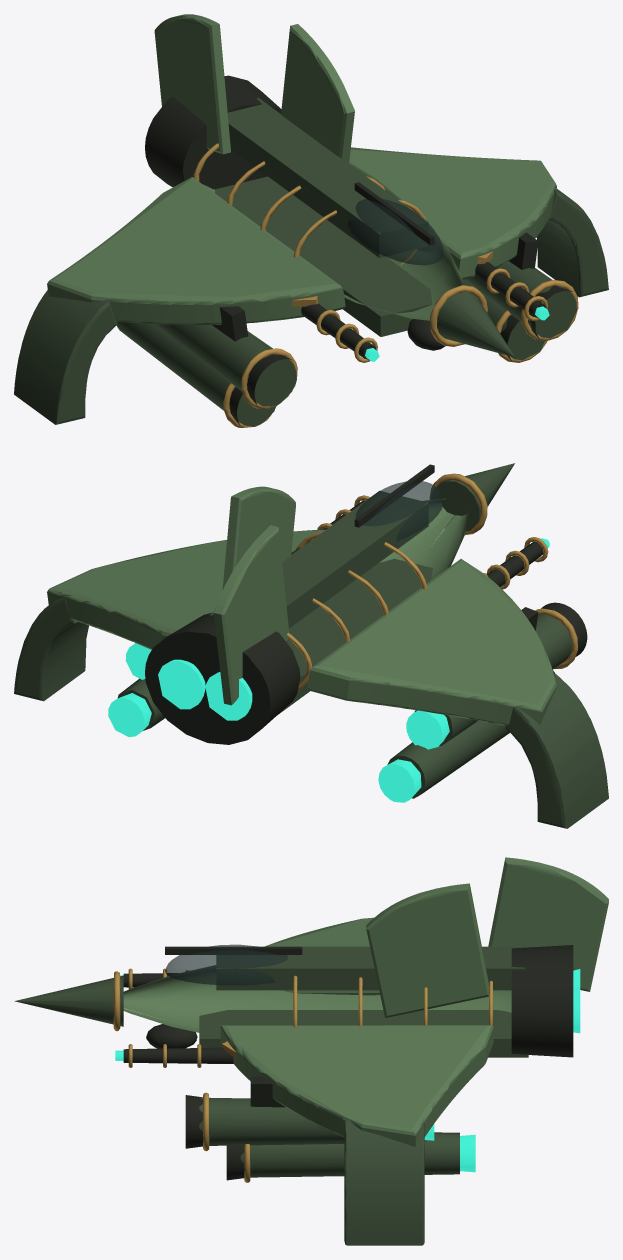
File: warbird-heavy-lod1.glb
The picture shows the model from 3 angles, top to bottom: view 1: azimuth 30°, elevation 25°; view 2: azimuth 150°, elevation 25°; view 3: azimuth 270°, elevation 25°; orthographic projection. The views are drawn at different scales.
Visible parts, largest first — view 1: object 1, nacelle_shell_1, cannon_barrel (×2), nacelle_shell_2, nacelle_ring_1, nacelle_pylon_1; view 2: object 1, object 2, main_thruster_2, plasma_exhaust_2, main_thruster_1, cannon_barrel, nacelle_shell_2, plasma_exhaust_1; view 3: object 1, nacelle_shell_1, nacelle_shell_2, cannon_barrel, nacelle_intake_1, nacelle_pylon_1, nacelle_intake_2, plasma_exhaust_2.
Boxes of the visible parts, box(x1,y1,x2,y2) form: object 1: box(14, 14, 608, 427); nacelle_shell_1: box(466, 261, 576, 338); cannon_barrel (×2): box(301, 262, 546, 360); nacelle_shell_2: box(462, 279, 544, 360); nacelle_ring_1: box(521, 280, 578, 340); nacelle_pylon_1: box(509, 232, 538, 269); object 1: box(14, 463, 608, 828); object 2: box(378, 710, 449, 802); main_thruster_2: box(158, 659, 205, 709); plasma_exhaust_2: box(108, 693, 151, 736); main_thruster_1: box(205, 672, 252, 720); cannon_barrel: box(487, 542, 542, 586); nacelle_shell_2: box(117, 678, 164, 730); plasma_exhaust_1: box(125, 643, 151, 679); object 1: box(14, 857, 608, 1245); nacelle_shell_1: box(199, 1097, 344, 1145); nacelle_shell_2: box(240, 1132, 459, 1177); cannon_barrel: box(123, 1047, 233, 1063); nacelle_intake_1: box(185, 1095, 203, 1148); nacelle_pylon_1: box(250, 1076, 285, 1107); nacelle_intake_2: box(226, 1145, 244, 1180); plasma_exhaust_2: box(460, 1134, 475, 1172).
Size of the model in its own units: 16.92 by 8.07 by 17.34.
